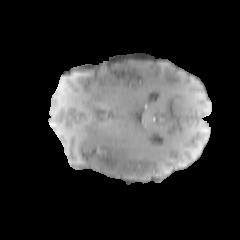glioma: (82, 135, 191, 179)
